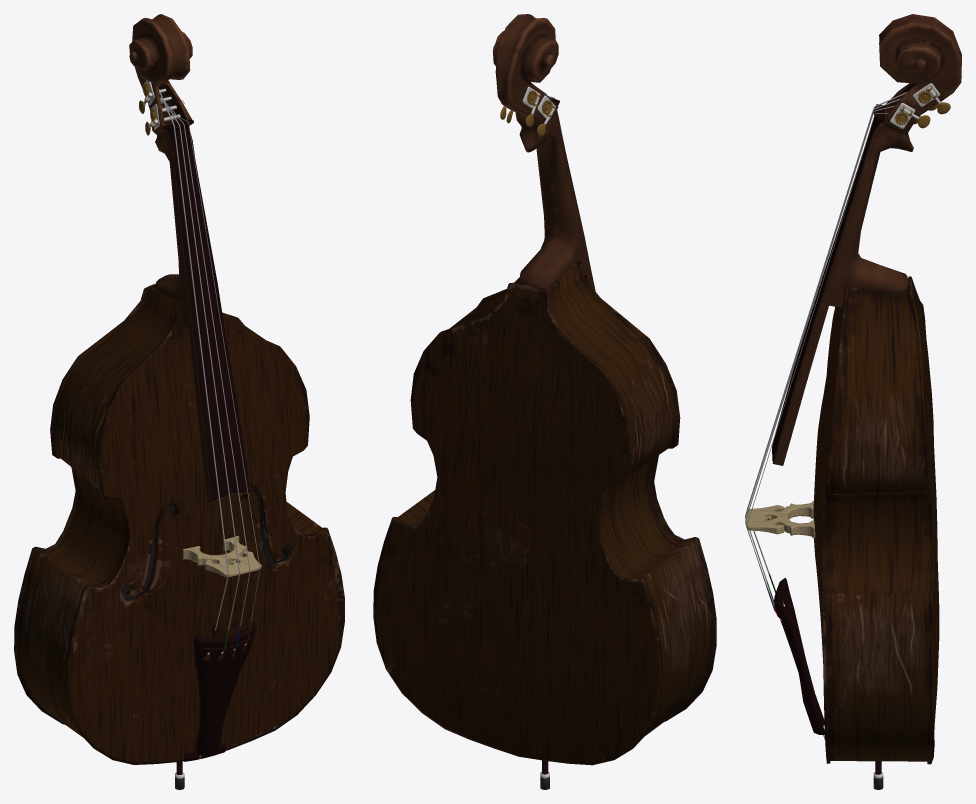
The model's file is old_double_bass_low_poly_decimated.glb.
The picture shows the model from 3 angles, left to right: view 1: azimuth 30°, elevation 25°; view 2: azimuth 150°, elevation 25°; view 3: azimuth 270°, elevation 25°; orthographic projection. The views are drawn at different scales.
Visible parts, largest first — view 1: body_chek_0_0, grif top_chek_0_14, grif_chek_0_12, rif bottom_chek_0_22, holder_chek_0_16, strings.001_chek_0_26, strings.002_chek_0_28, strings.003_chek_0_30, strings.004_chek_0_32; view 2: body_chek_0_0, grif_chek_0_12; view 3: body_chek_0_0, grif_chek_0_12, rif bottom_chek_0_22, grif top_chek_0_14, holder_chek_0_16, strings.002_chek_0_28, strings.003_chek_0_30, strings.004_chek_0_32, colk_chek_0_4, colk.001_chek_0_6.
Boxes of the visible parts, x1,y1,x2,y2 form: body_chek_0_0: (14, 284, 344, 764); grif top_chek_0_14: (162, 119, 250, 501); grif_chek_0_12: (129, 14, 250, 503); rif bottom_chek_0_22: (194, 622, 256, 756); holder_chek_0_16: (183, 535, 261, 577); strings.001_chek_0_26: (158, 89, 228, 654); strings.002_chek_0_28: (160, 97, 240, 653); strings.003_chek_0_30: (164, 105, 250, 650); strings.004_chek_0_32: (171, 114, 260, 644); body_chek_0_0: (373, 260, 716, 765); grif_chek_0_12: (493, 14, 595, 291); body_chek_0_0: (813, 276, 939, 764); grif_chek_0_12: (772, 14, 961, 465); rif bottom_chek_0_22: (774, 578, 824, 734); grif top_chek_0_14: (772, 104, 884, 461); holder_chek_0_16: (745, 501, 815, 538); strings.002_chek_0_28: (745, 98, 900, 604); strings.003_chek_0_30: (745, 106, 893, 610); strings.004_chek_0_32: (746, 113, 888, 620); colk_chek_0_4: (890, 103, 930, 128); colk.001_chek_0_6: (912, 83, 950, 114).
Size of the model in its own units: 98.91 by 258 by 65.81.
Materials: 1 (1 with a texture image).
